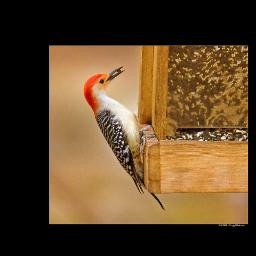Woodpecker: (83, 66, 166, 211)
